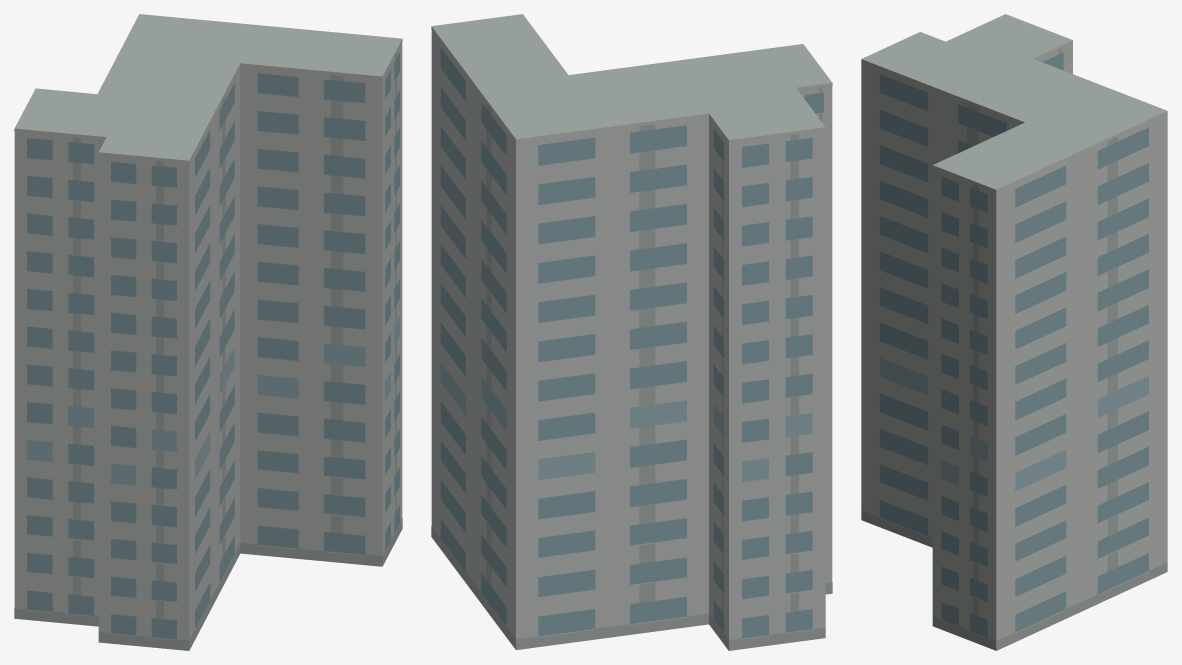
The model's file is residential-bc63431a-d235-4a6b-bace-309f4bf52074.glb.
3 renders of one model, left to right at view 1: azimuth 30°, elevation 25°; view 2: azimuth 150°, elevation 25°; view 3: azimuth 270°, elevation 25°, orthographic. The views are drawn at different scales.
Parts seen in each view (by area): view 1: residential-bc63431a-d235-4a6b-bace-309f4bf52074.tmp; view 2: residential-bc63431a-d235-4a6b-bace-309f4bf52074.tmp; view 3: residential-bc63431a-d235-4a6b-bace-309f4bf52074.tmp.
Part boxes in pixels (x1,y1,x2,y2): residential-bc63431a-d235-4a6b-bace-309f4bf52074.tmp: (14,14,402,650); residential-bc63431a-d235-4a6b-bace-309f4bf52074.tmp: (431,14,832,650); residential-bc63431a-d235-4a6b-bace-309f4bf52074.tmp: (861,14,1167,650).
Bounding box in the file's own units: 32.72 × 40 × 24.09.
